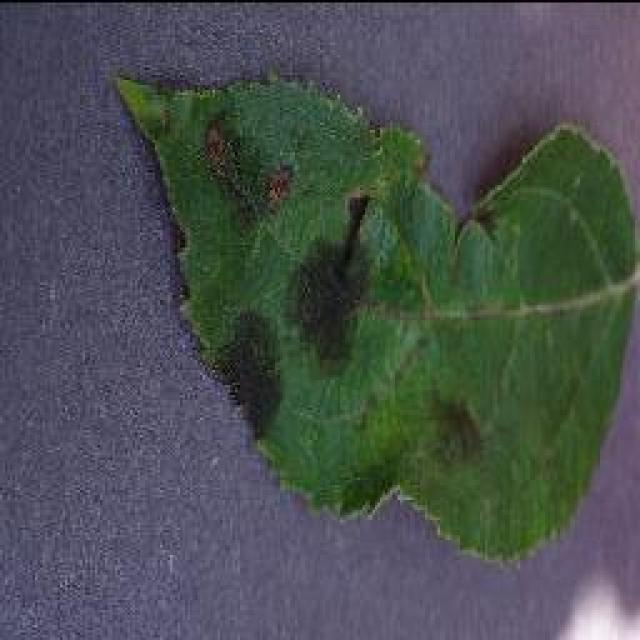apple scab disease: (110, 65, 638, 565)
